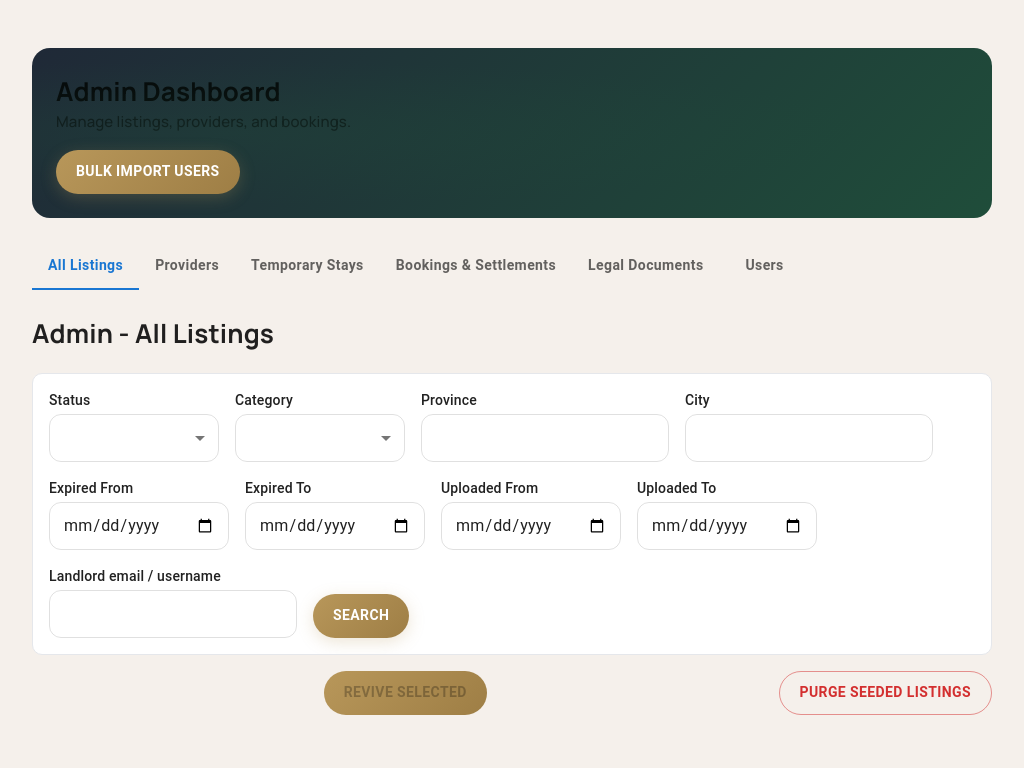
Test: Admin Dashboard - Users Tab › opens bulk import dialog when button is clicked
This screenshot has width=1024, height=768.
Click the button "Bulk Import Users".
click(148, 172)  # box [56,150,240,194]
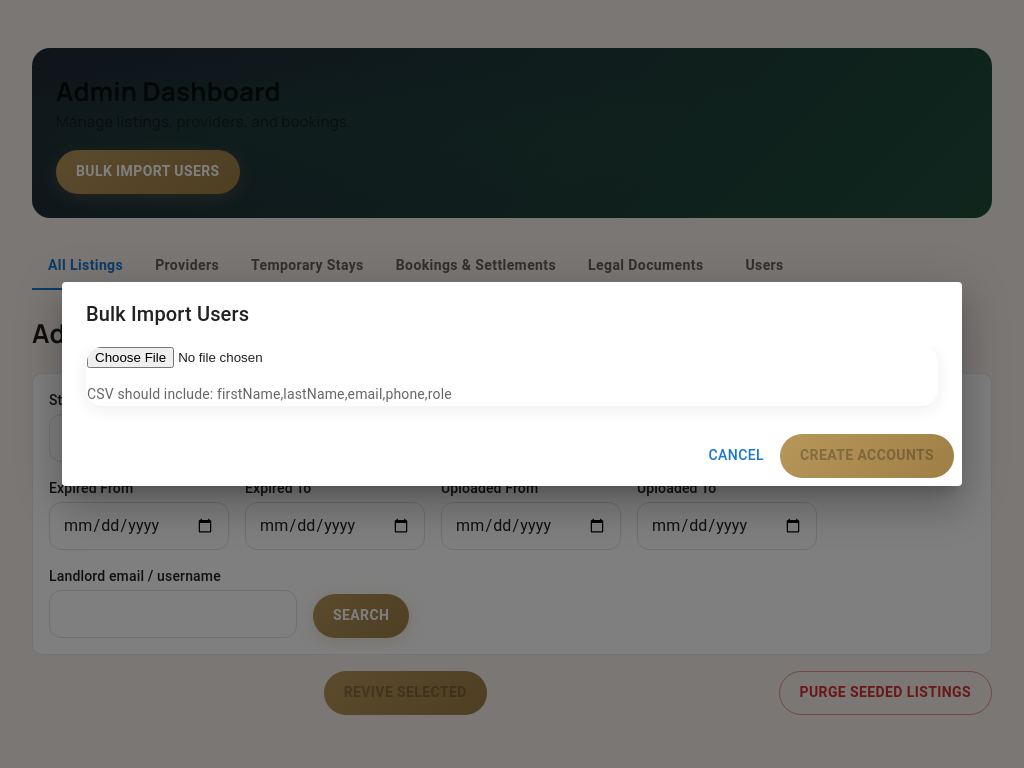
Expected: the heading "Bulk Import Users" is shown, [86,302,249,326]
